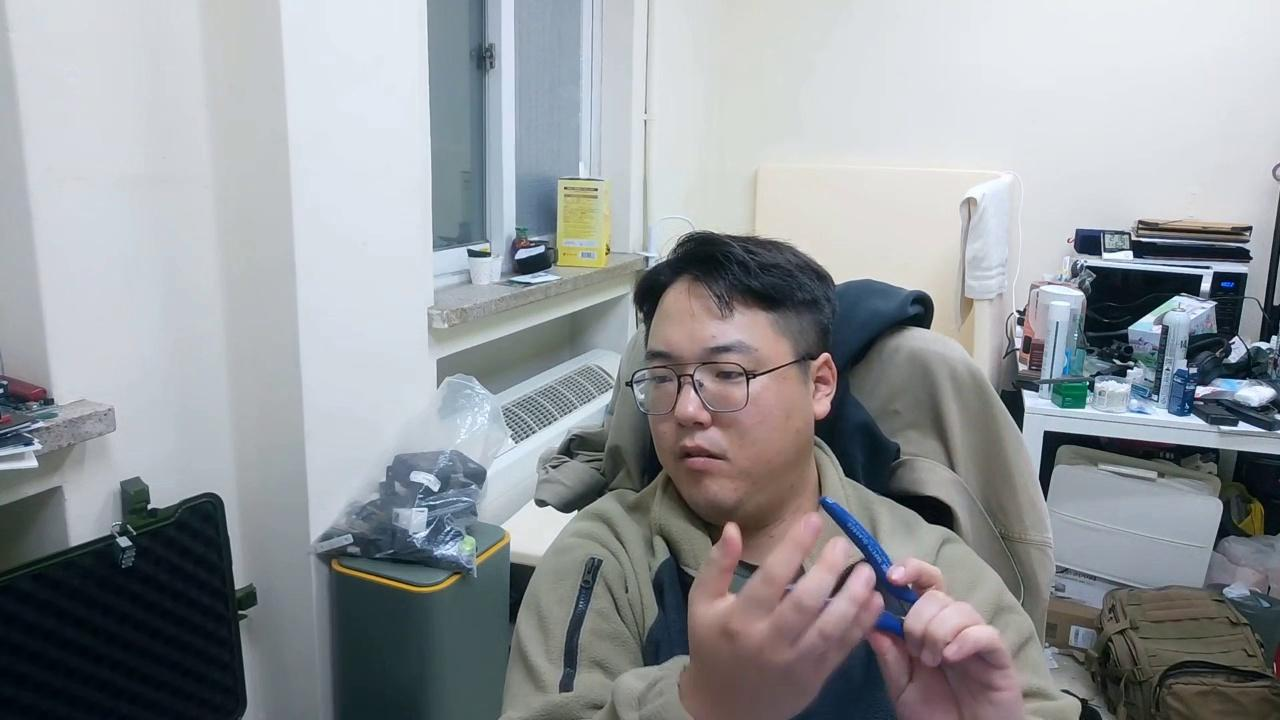blue_pliers: (816, 494, 921, 640)
